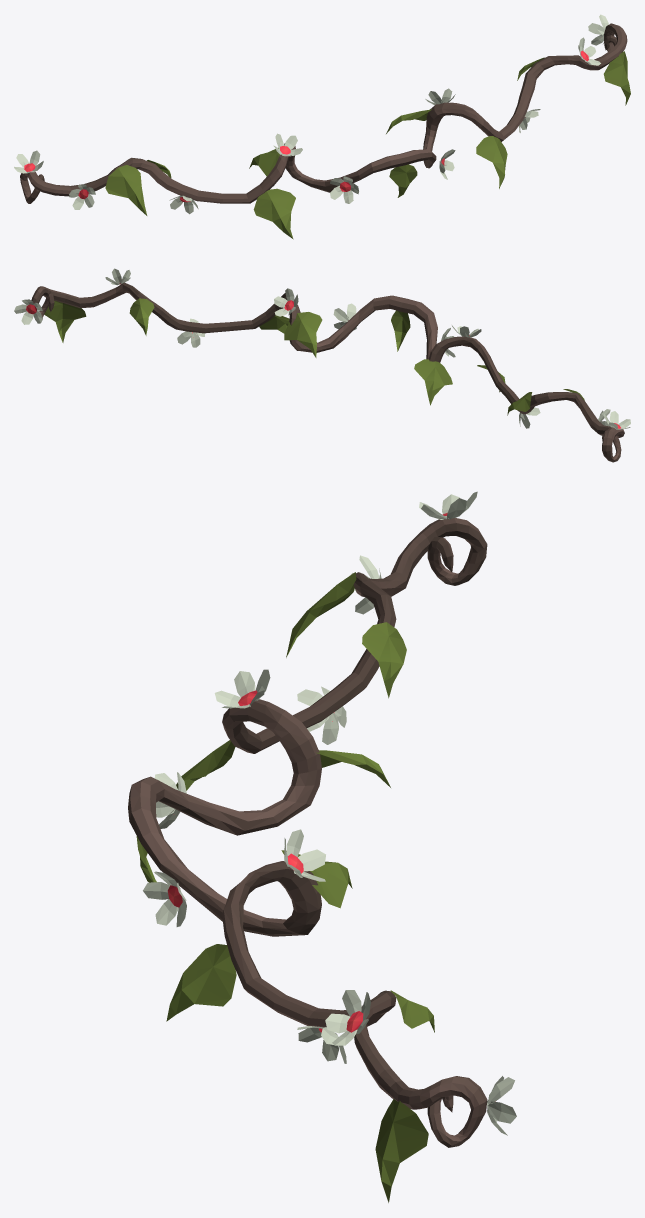
File: repeatingCrossbowIvyTip.glb
3 renders of one model, top to bottom at view 1: azimuth 30°, elevation 25°; view 2: azimuth 150°, elevation 25°; view 3: azimuth 270°, elevation 25°, orthographic. The views are drawn at different scales.
Visible parts, largest first — view 1: repeatingCrossbowIvyTip; view 2: repeatingCrossbowIvyTip; view 3: repeatingCrossbowIvyTip.
Boxes of the visible parts, x1,y1,x2,y2 form: repeatingCrossbowIvyTip: (14, 14, 630, 239); repeatingCrossbowIvyTip: (14, 268, 630, 462); repeatingCrossbowIvyTip: (128, 491, 516, 1202).
Size of the model in its own units: 0.8246 by 0.1128 by 0.2316.
